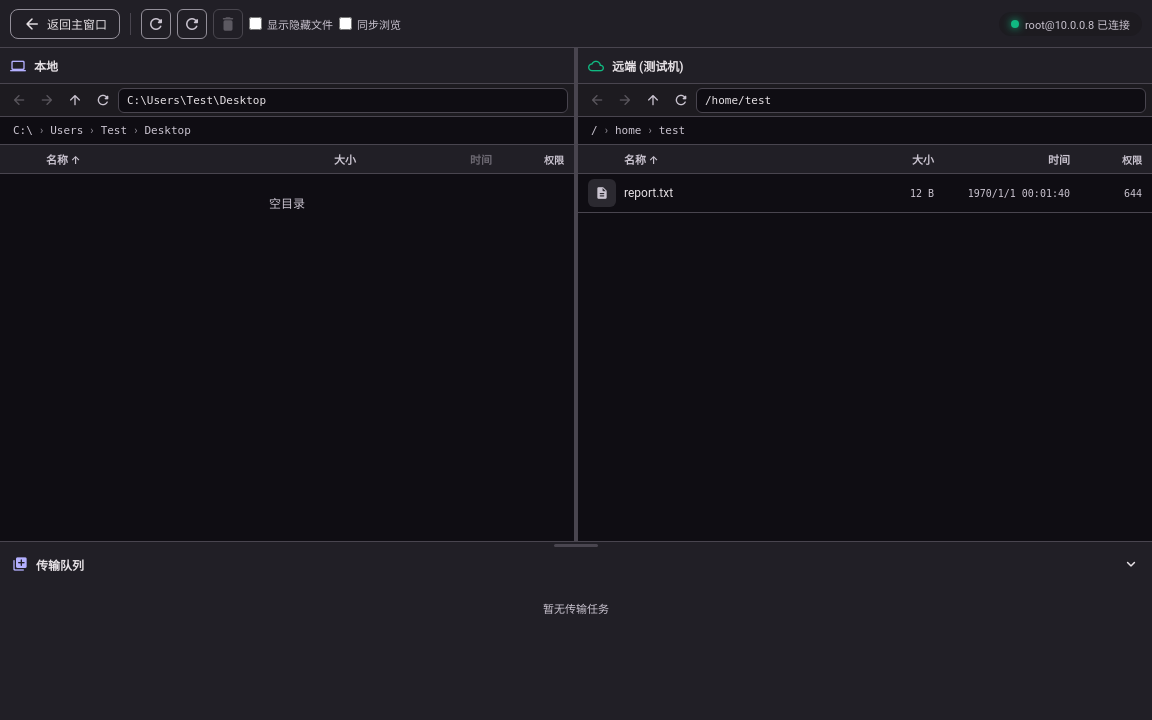
Scenario: SFTP 远端文本编辑（外部编辑器） › 编辑器关闭后回传成功，监听 uploaded 事件并刷新远端列表
Later steps or results of the test are not shown.
Right-click the text "report.txt": (649, 193) [624,186,673,200]
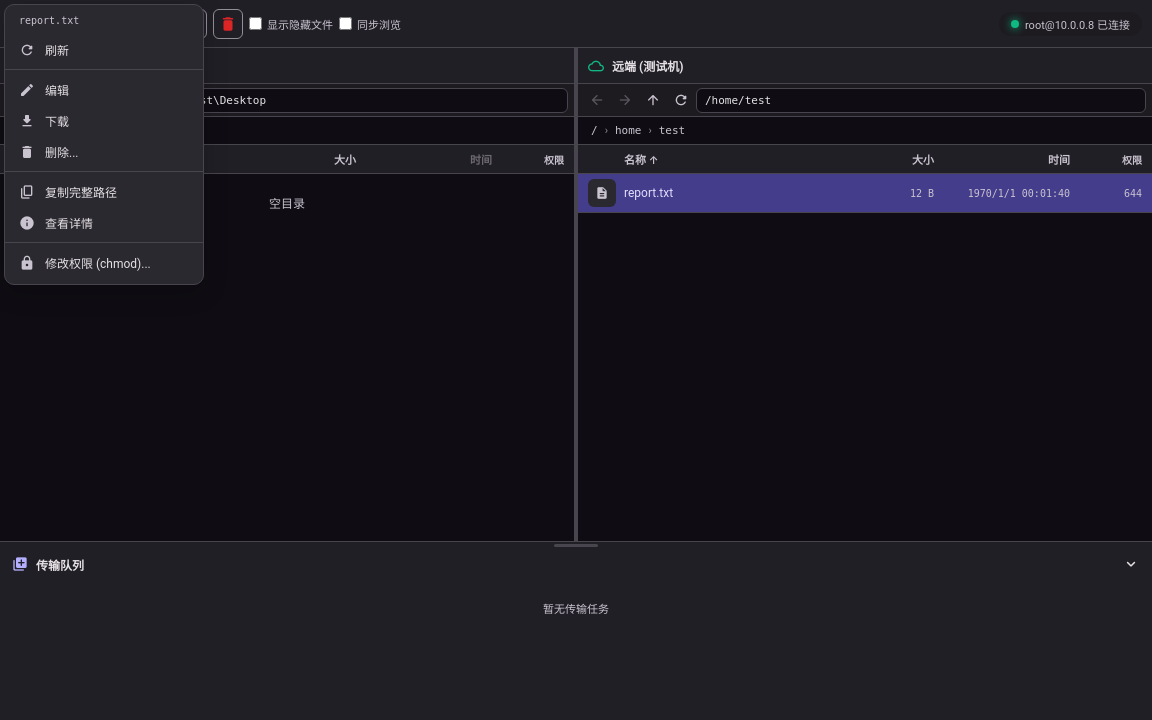
Click the menu item "编辑": click(44, 90) [19,82,69,98]
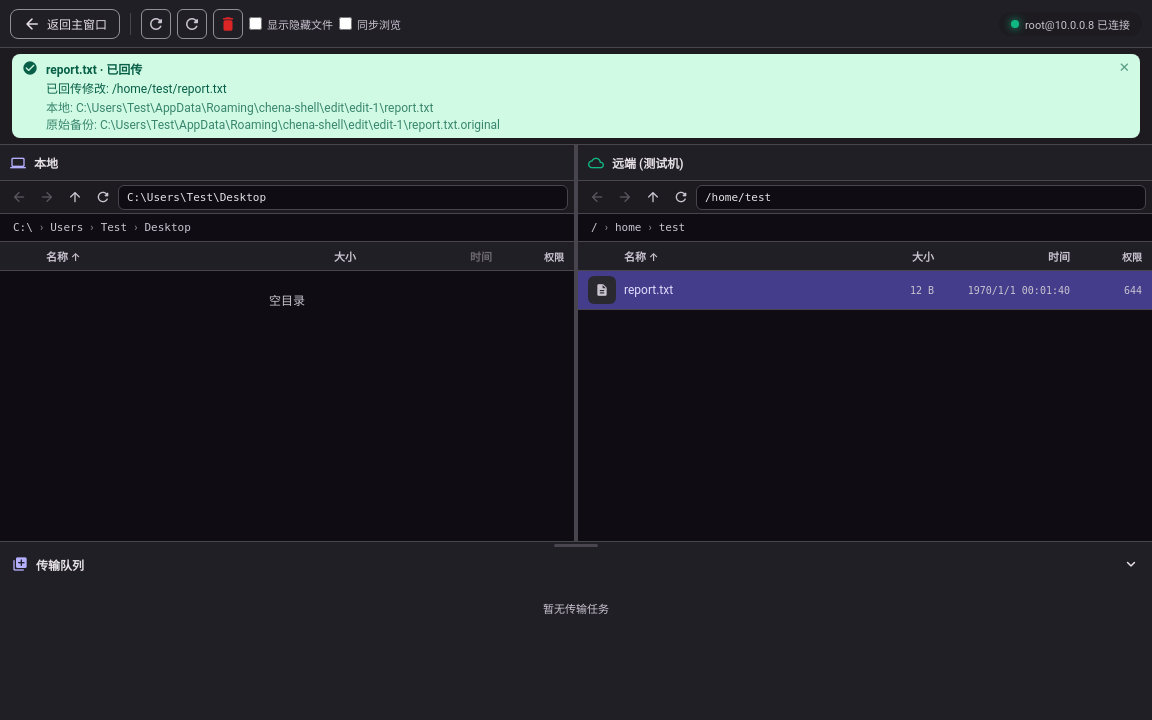
Expected: the message with test id "edit-notice-uploaded" shows "已回传修改", [46,82,227,96]
